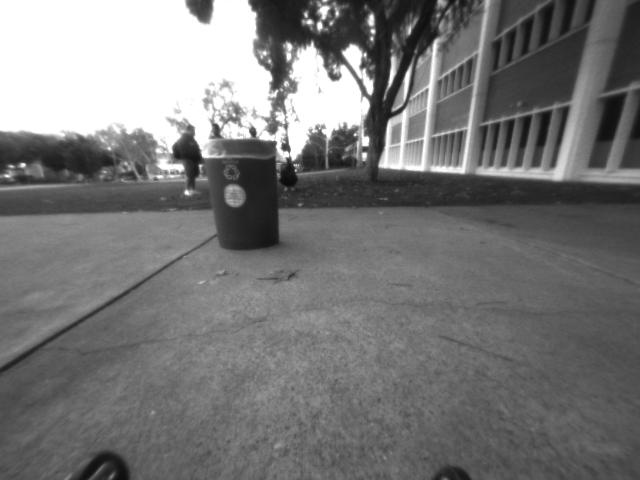trashcan: (198, 135, 290, 250)
